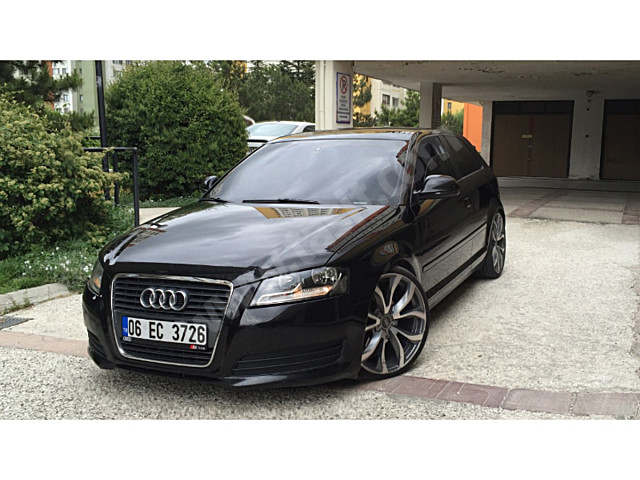audi: (135, 286, 188, 313)
